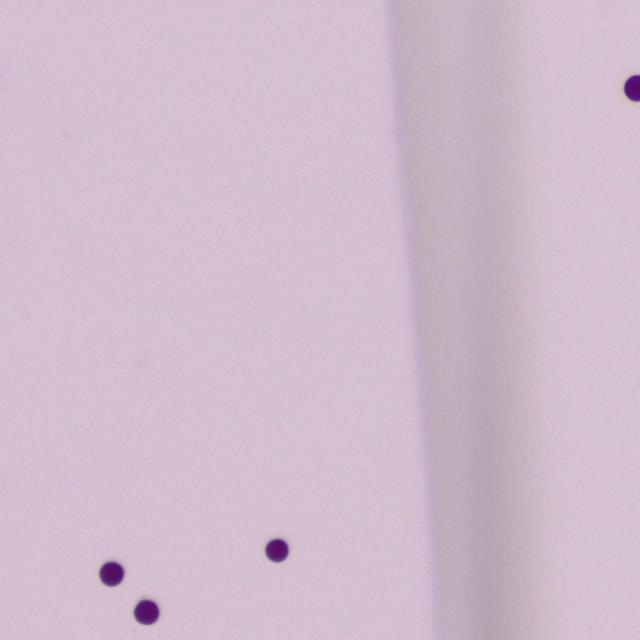viable: (99, 561, 124, 586), (134, 599, 159, 624), (262, 538, 285, 562), (624, 75, 639, 102)
